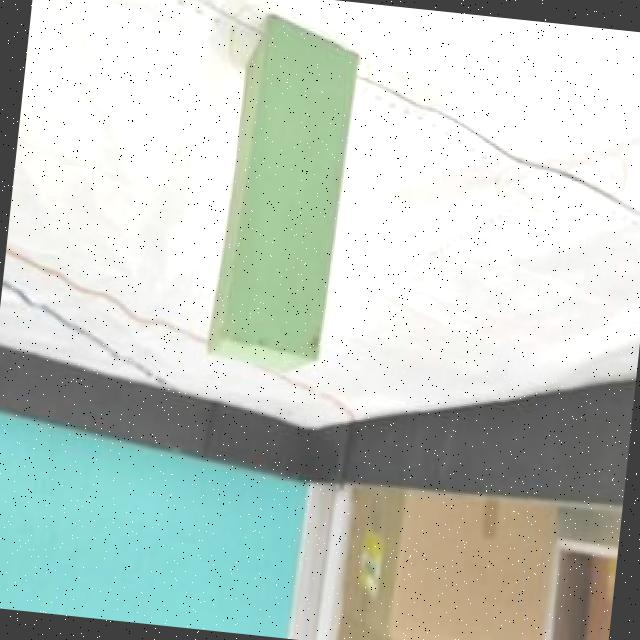greenbox: (200, 11, 364, 383)
